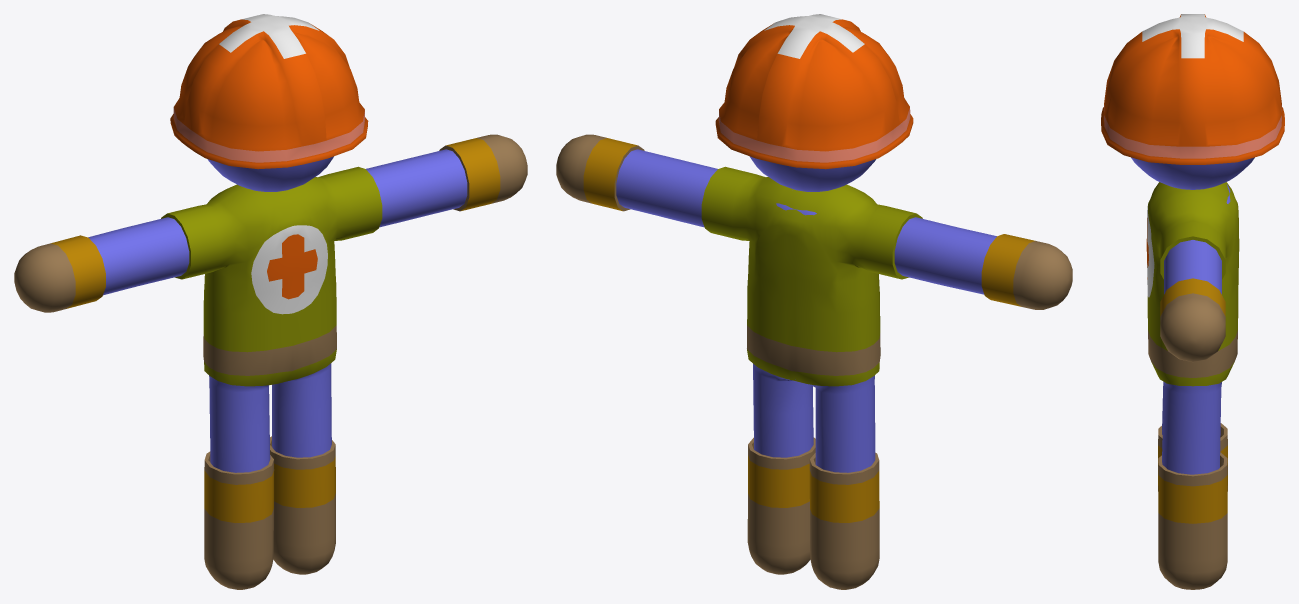
File: PlayerAssistant.fbx
The picture shows the model from 3 angles, left to right: view 1: azimuth 30°, elevation 25°; view 2: azimuth 150°, elevation 25°; view 3: azimuth 270°, elevation 25°; orthographic projection.
Parts seen in each view (by area): view 1: Mesh_CharCostume, Mesh_pasted__hat1, Mesh_Char; view 2: Mesh_CharCostume, Mesh_pasted__hat1, Mesh_Char; view 3: Mesh_CharCostume, Mesh_pasted__hat1, Mesh_Char.
Boxes of the visible parts, x1,y1,x2,y2 form: Mesh_CharCostume: [14, 134, 527, 589]; Mesh_pasted__hat1: [170, 14, 368, 169]; Mesh_Char: [88, 149, 467, 472]; Mesh_CharCostume: [556, 134, 1072, 589]; Mesh_pasted__hat1: [715, 14, 913, 169]; Mesh_Char: [616, 149, 996, 472]; Mesh_CharCostume: [1146, 182, 1239, 589]; Mesh_pasted__hat1: [1101, 14, 1284, 164]; Mesh_Char: [1131, 157, 1254, 474].
Size of the model in its own units: 312 by 327 by 99.52.
